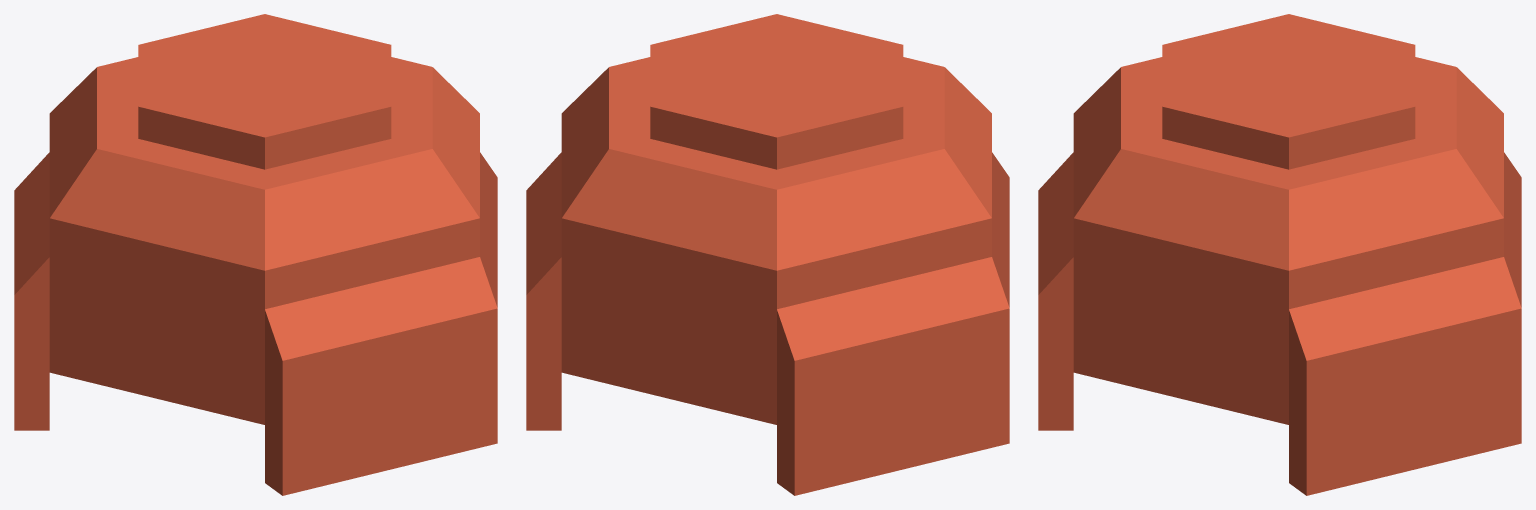
Rendered from barrellarge.glb.
3 renders of one model, left to right at view 1: azimuth 30°, elevation 25°; view 2: azimuth 150°, elevation 25°; view 3: azimuth 270°, elevation 25°, orthographic.
Parts seen in each view (by area): view 1: barrelLarge; view 2: barrelLarge; view 3: barrelLarge.
Boxes of the visible parts, x1,y1,x2,y2 form: barrelLarge: (14, 14, 497, 495); barrelLarge: (526, 14, 1009, 495); barrelLarge: (1038, 14, 1521, 495).
Bounding box in the file's own units: 7.87 × 4.7 × 6.81.
